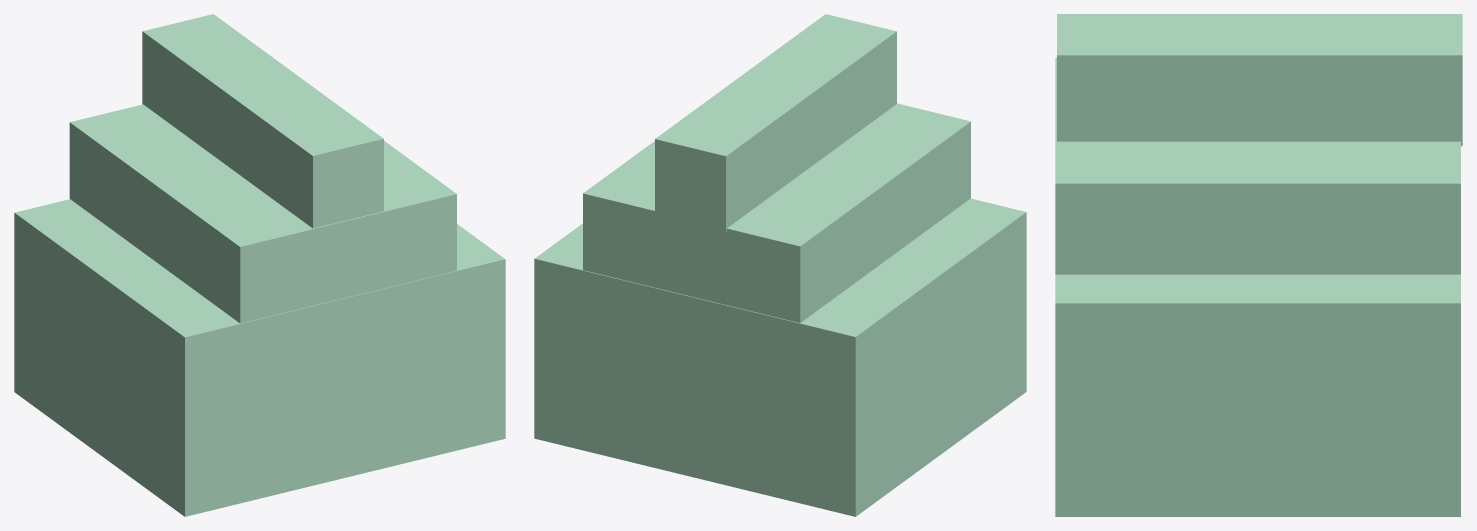
3 views of the same model, side by side, from view 1: azimuth 30°, elevation 25°; view 2: azimuth 150°, elevation 25°; view 3: azimuth 270°, elevation 25° (orthographic). The views are drawn at different scales.
Visible parts, largest first — view 1: Cube, Cube.001, Cube.002; view 2: Cube, Cube.001, Cube.002; view 3: Cube, Cube.001, Cube.002.
Part boxes in pixels (box(x1,y1,x2,y2)): Cube: box(14, 199, 505, 516); Cube.001: box(69, 104, 456, 323); Cube.002: box(142, 14, 383, 228); Cube: box(534, 198, 1026, 516); Cube.001: box(583, 103, 970, 322); Cube.002: box(655, 14, 896, 232); Cube: box(1055, 274, 1460, 516); Cube.001: box(1055, 57, 1460, 274); Cube.002: box(1057, 14, 1462, 146).
Bounding box in the file's own units: 3.74 × 3.67 × 3.46.
